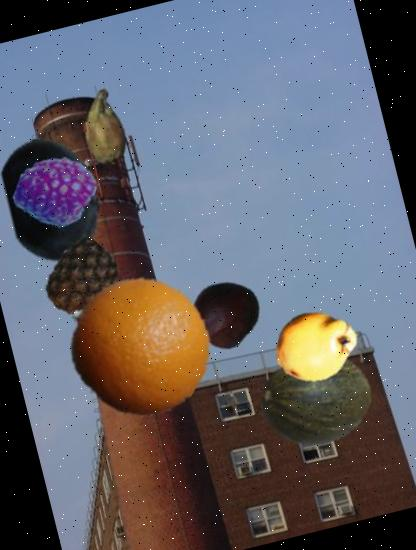Blueberry: (0, 122, 131, 277)
Cactus: (58, 80, 150, 172)
Chestnut: (183, 270, 268, 356)
Melon: (253, 336, 380, 462)
Orange: (52, 259, 225, 432)
Pineapple: (36, 234, 128, 326)
Quince: (265, 296, 368, 398)
Raspberry: (10, 145, 102, 236)
